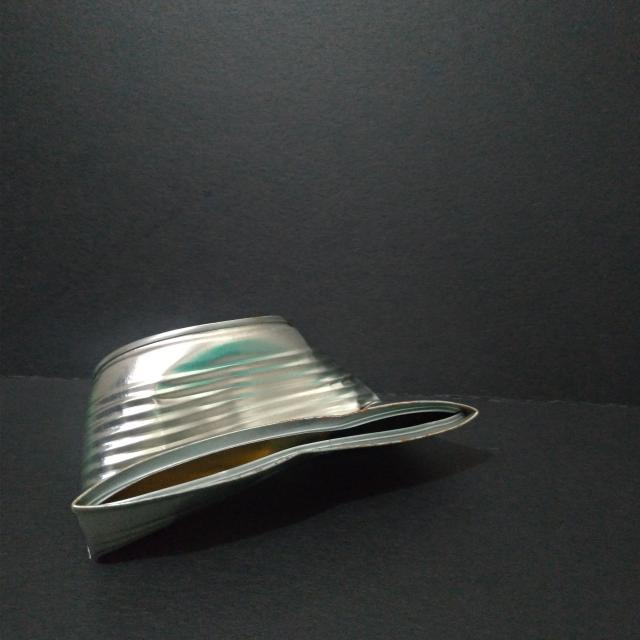metal-can: (70, 310, 482, 570)
